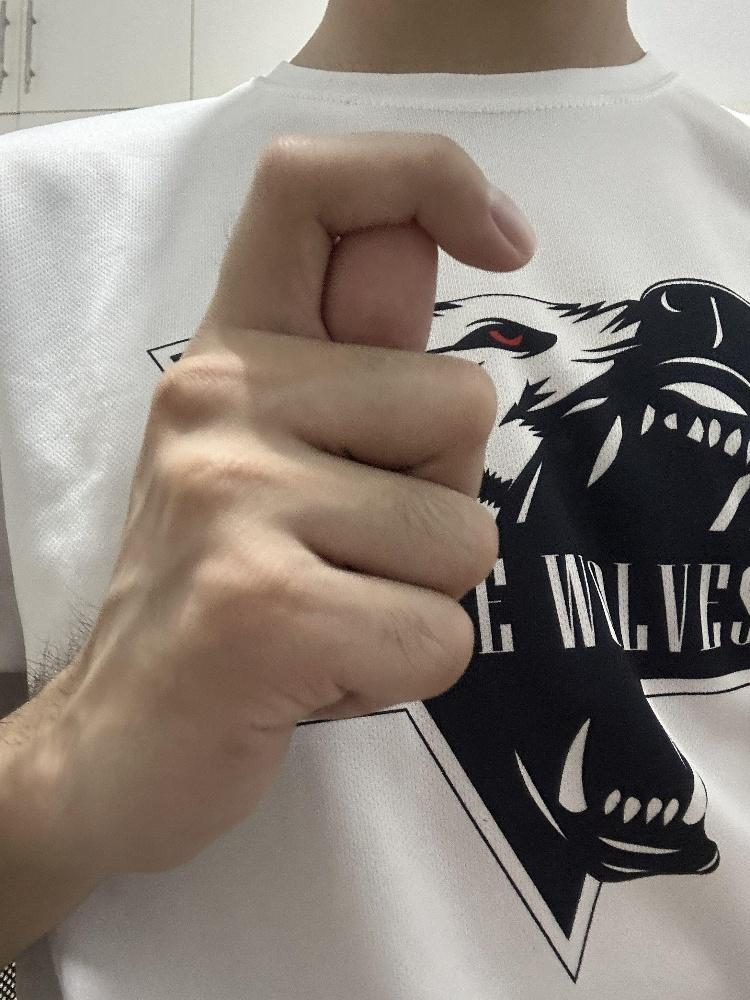t: (81, 124, 540, 876)
